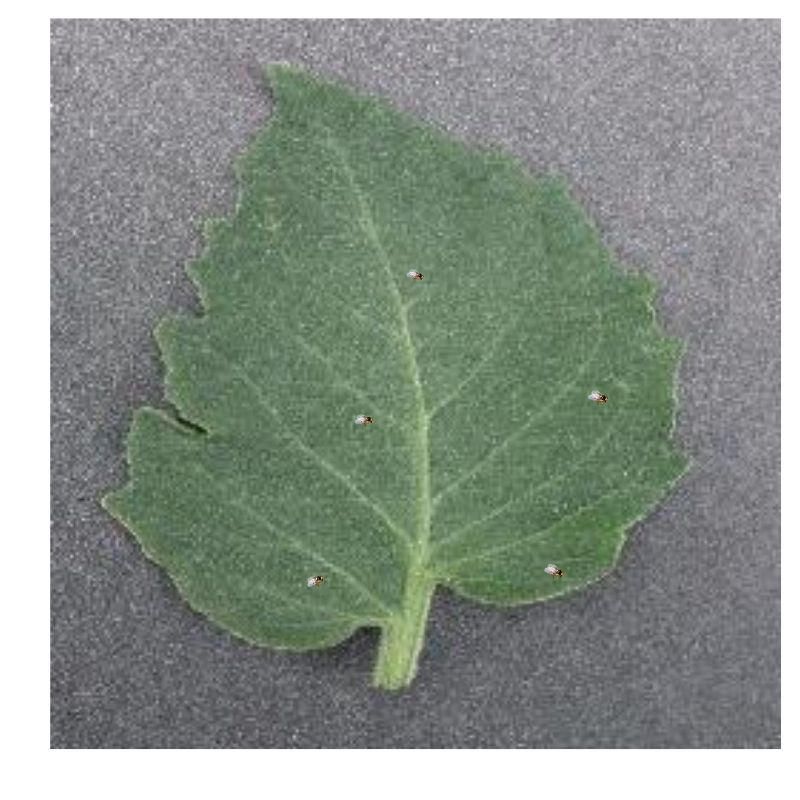liriomyza: (587, 387, 610, 404), (544, 561, 564, 580), (349, 412, 374, 427), (304, 572, 326, 589), (404, 267, 427, 283)
